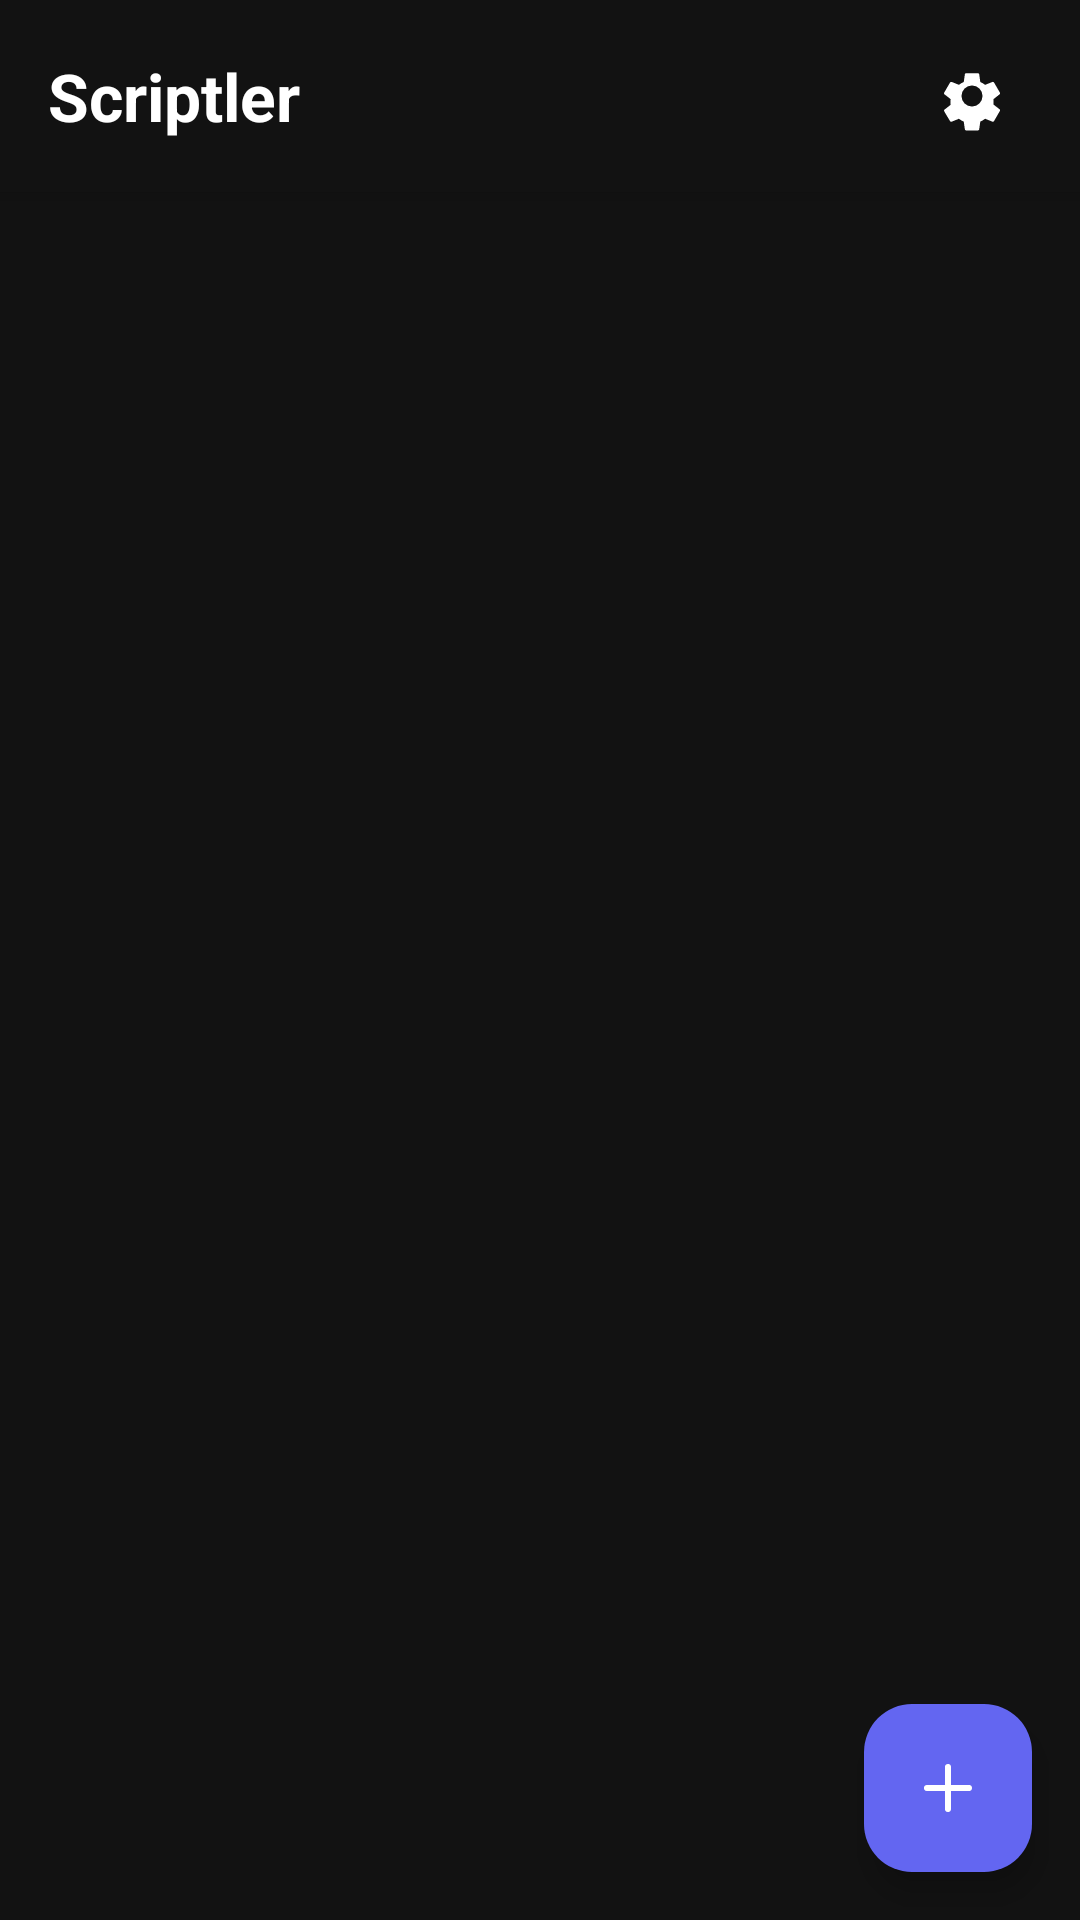

Named icons in this screenshot (1080 × 1920) and their centers, (x,y):
plus: (948,1788)
settings: (972,102)
